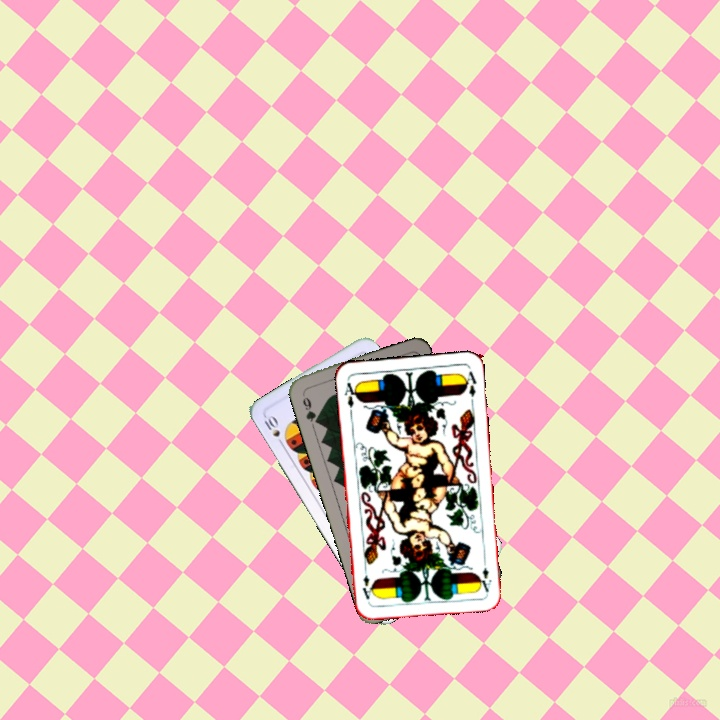EA: (476, 554, 494, 595), (340, 378, 360, 410)
G9: (298, 389, 322, 427)
S10: (259, 411, 286, 449)
